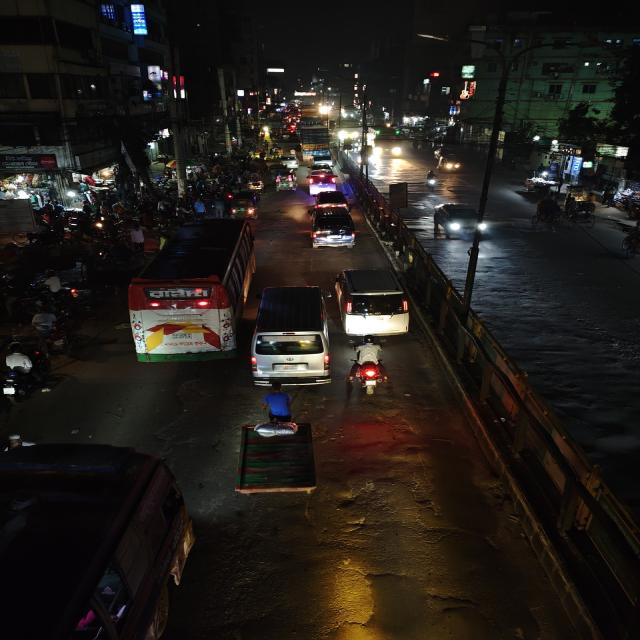bus: (1, 438, 194, 640), (122, 216, 257, 364), (371, 129, 403, 159)
car: (248, 282, 333, 388), (332, 263, 412, 339), (431, 200, 491, 242), (308, 207, 359, 253), (305, 169, 340, 194), (311, 190, 354, 210)
cng: (229, 190, 263, 218), (272, 168, 298, 194), (436, 155, 464, 176)
motorcycle: (0, 344, 56, 404), (347, 337, 392, 398), (26, 308, 77, 352), (421, 170, 441, 190)
pedestrian: (128, 224, 148, 251)
pickup_van: (310, 149, 333, 167)
rickshaw: (231, 384, 319, 502), (533, 197, 564, 233), (566, 199, 600, 228), (619, 222, 640, 262), (246, 173, 266, 191)
truck: (298, 128, 336, 168)
